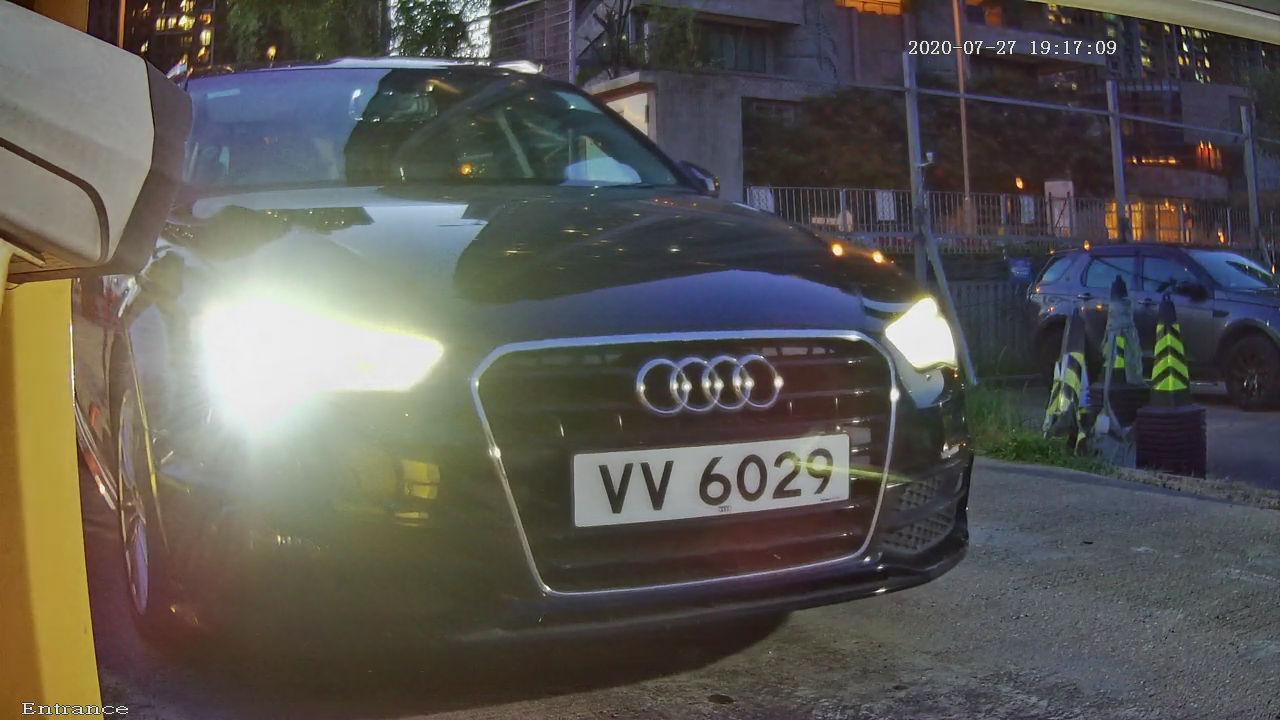privatecar: (132, 26, 1029, 659)
